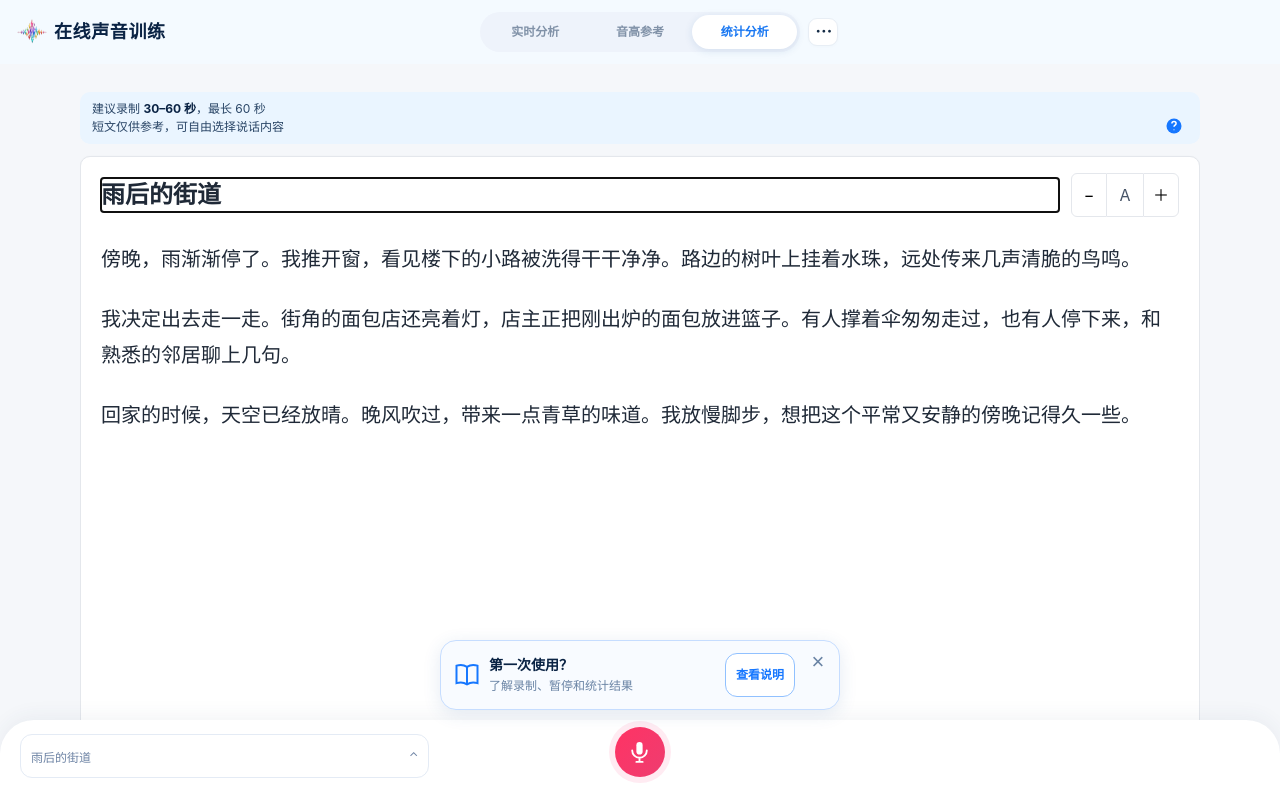
Test: uses a smaller default and pauses before showing a distinct completion action
What coordinates should you click on to do the following:
click the button named "开始录音"
I would click on:
 (640, 752)
Its box is [615,727,665,777].
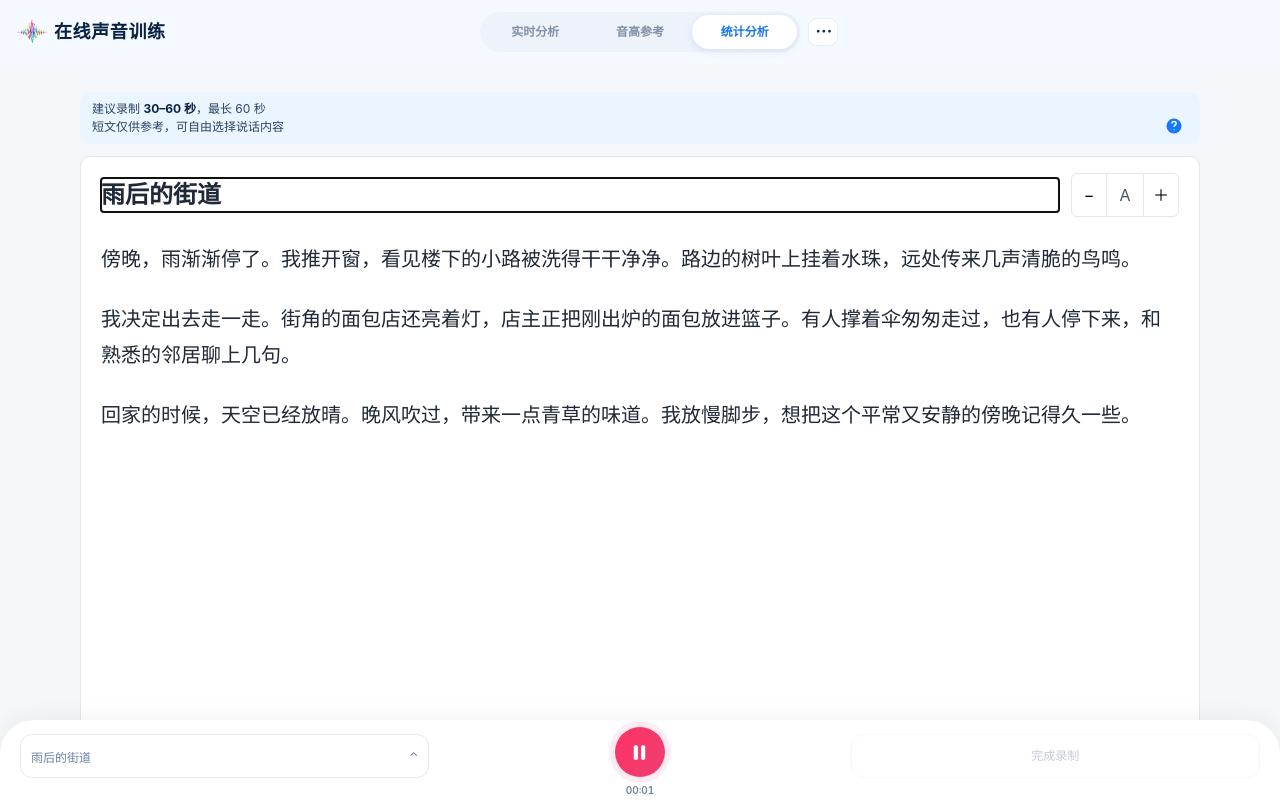
What coordinates should you click on to do the following:
click the button named "暂停录制"
I would click on:
 (640, 752)
Its box is [615,727,665,777].
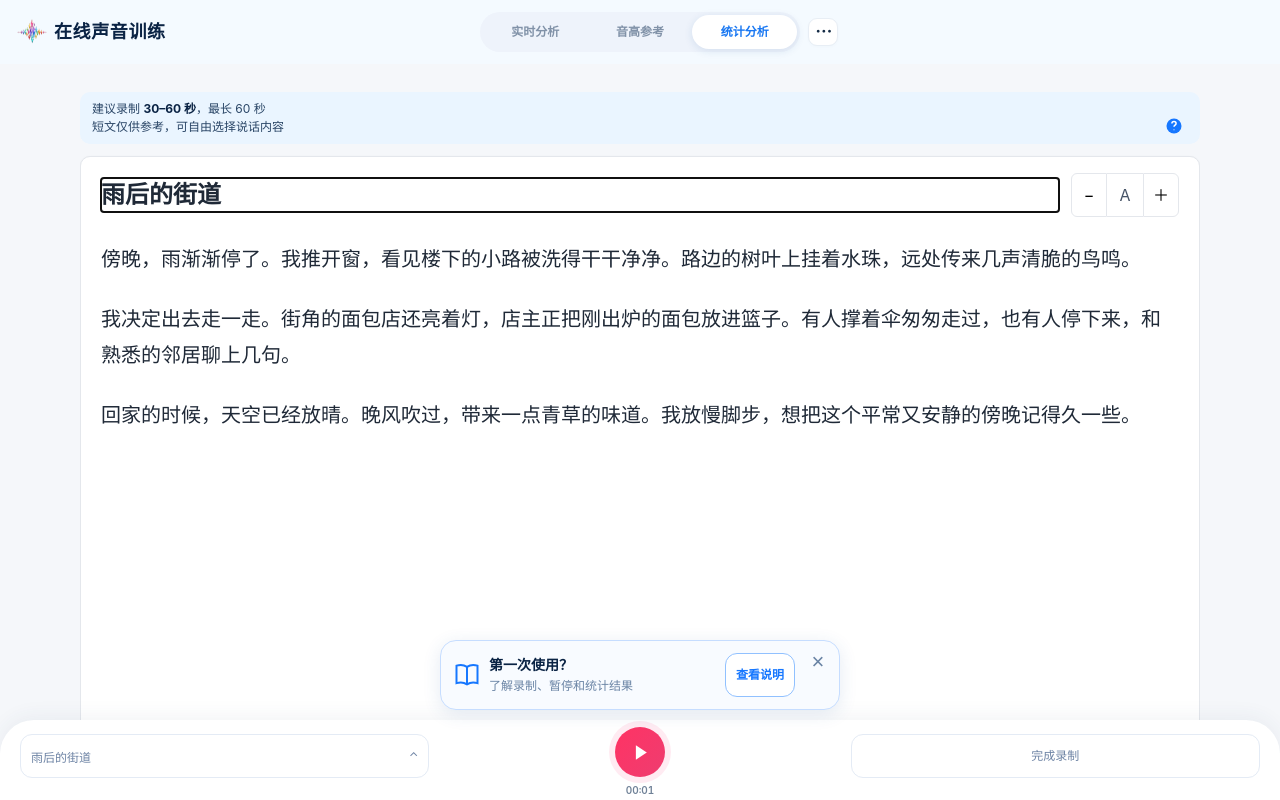
Now the button "完成录制" is shown, box [851,734,1260,778]
Now the text with test id "dock-timer" reads "00:01", box [626,784,654,796]
Now the button named "继续录制" is shown
What coordinates should you click on to do the following:
click the button named "继续录制"
I would click on:
 (640, 752)
Its box is [615,727,665,777].
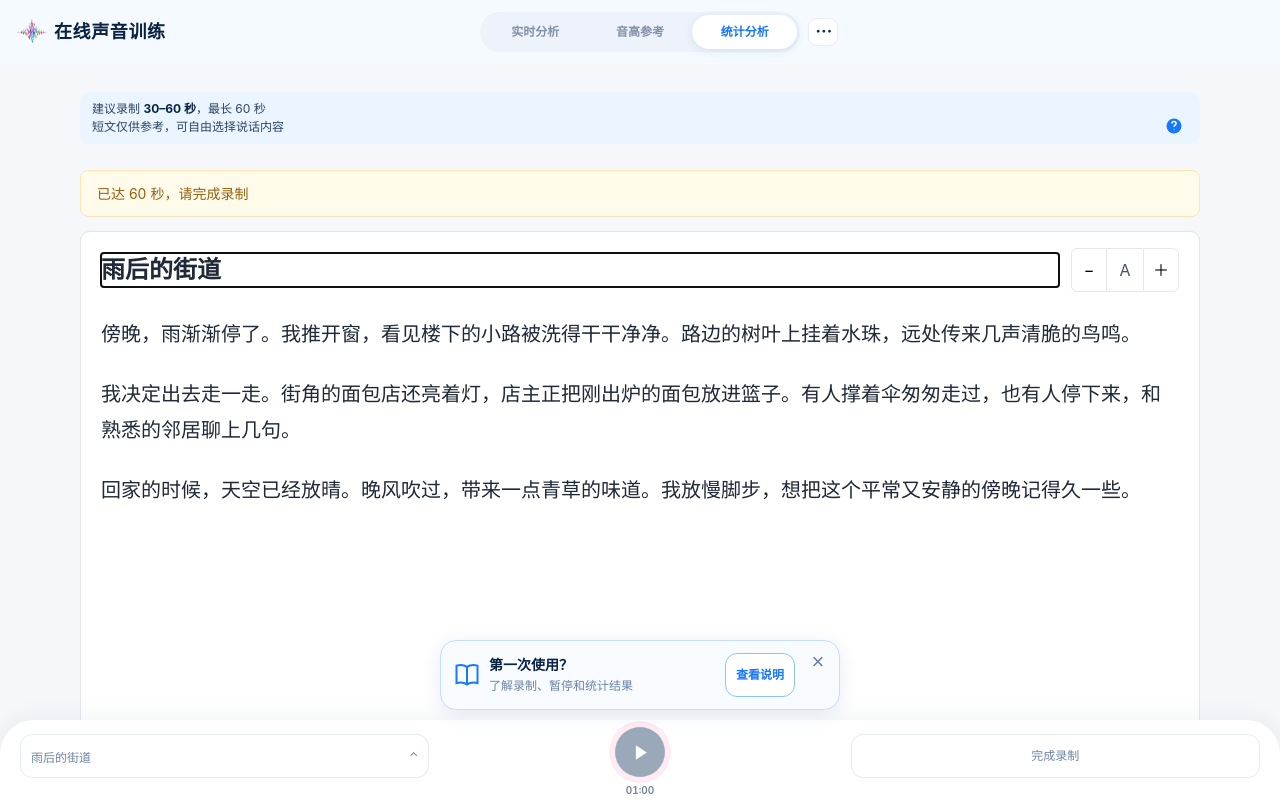
Now the button named "继续录制" is disabled, box [615,727,665,777]
Now the text "已达 60 秒，请完成录制" is shown, box [80,170,1200,217]
